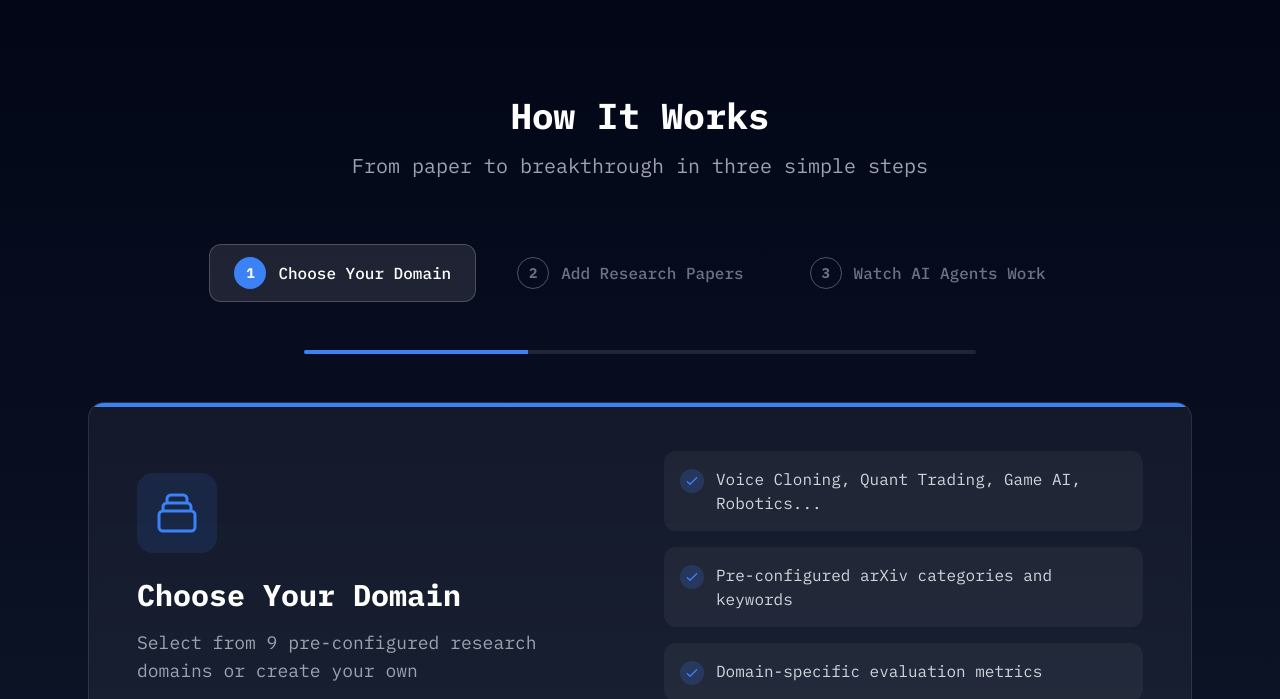
HowItWorks › Step Details › should show step 3 details when selected
Step 1. Click the text "3" → click(826, 273), box [810, 257, 842, 289]
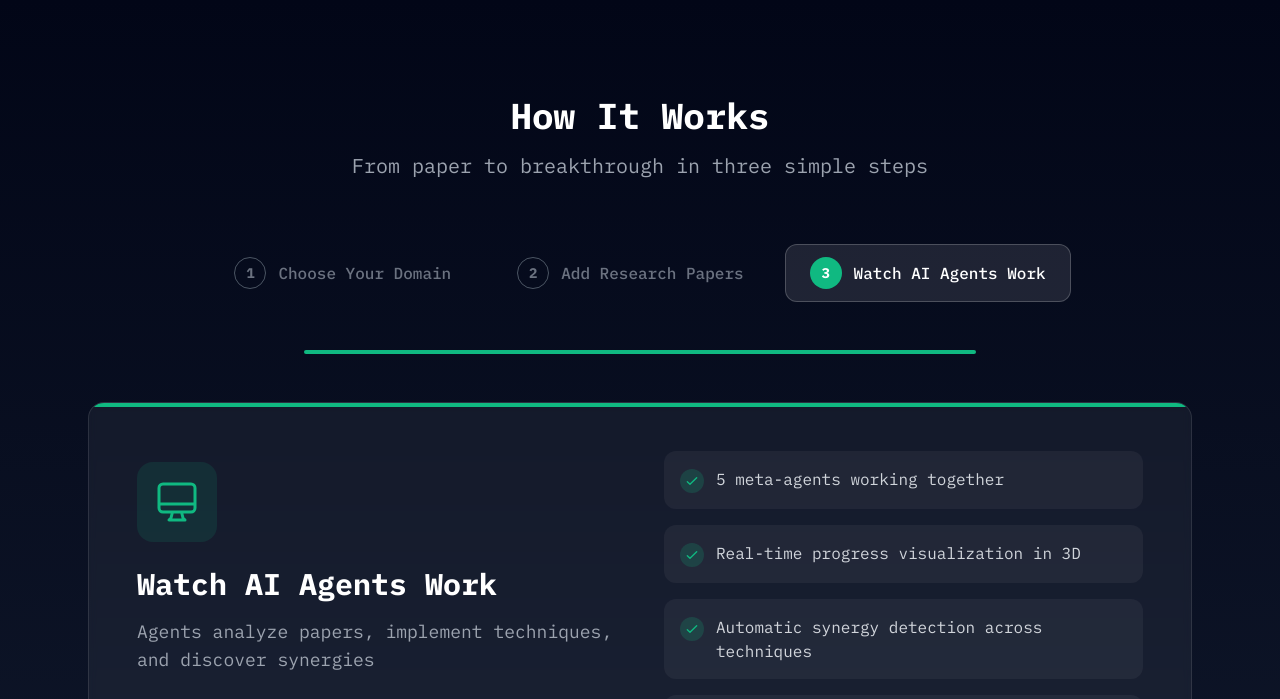
Result: the text "5 meta-agents working together" is shown at [716, 467, 1004, 491]
Result: the text "Automatic synergy detection across techniques" is shown at [716, 617, 1042, 661]
